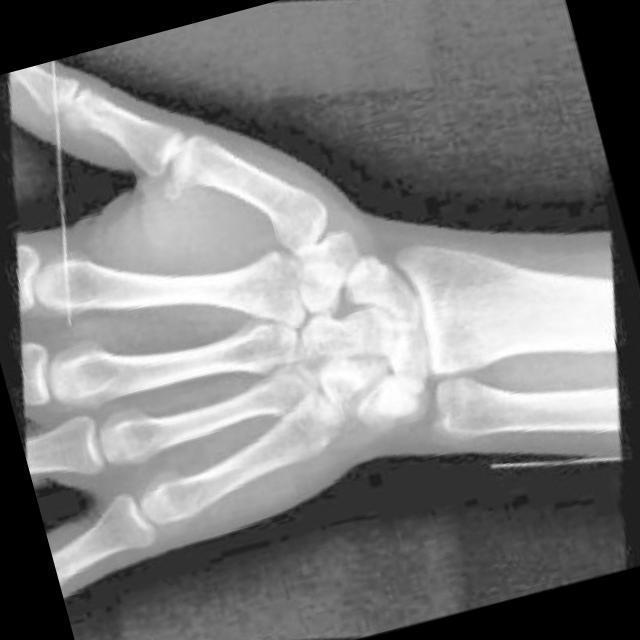bone: (371, 376, 420, 424)
